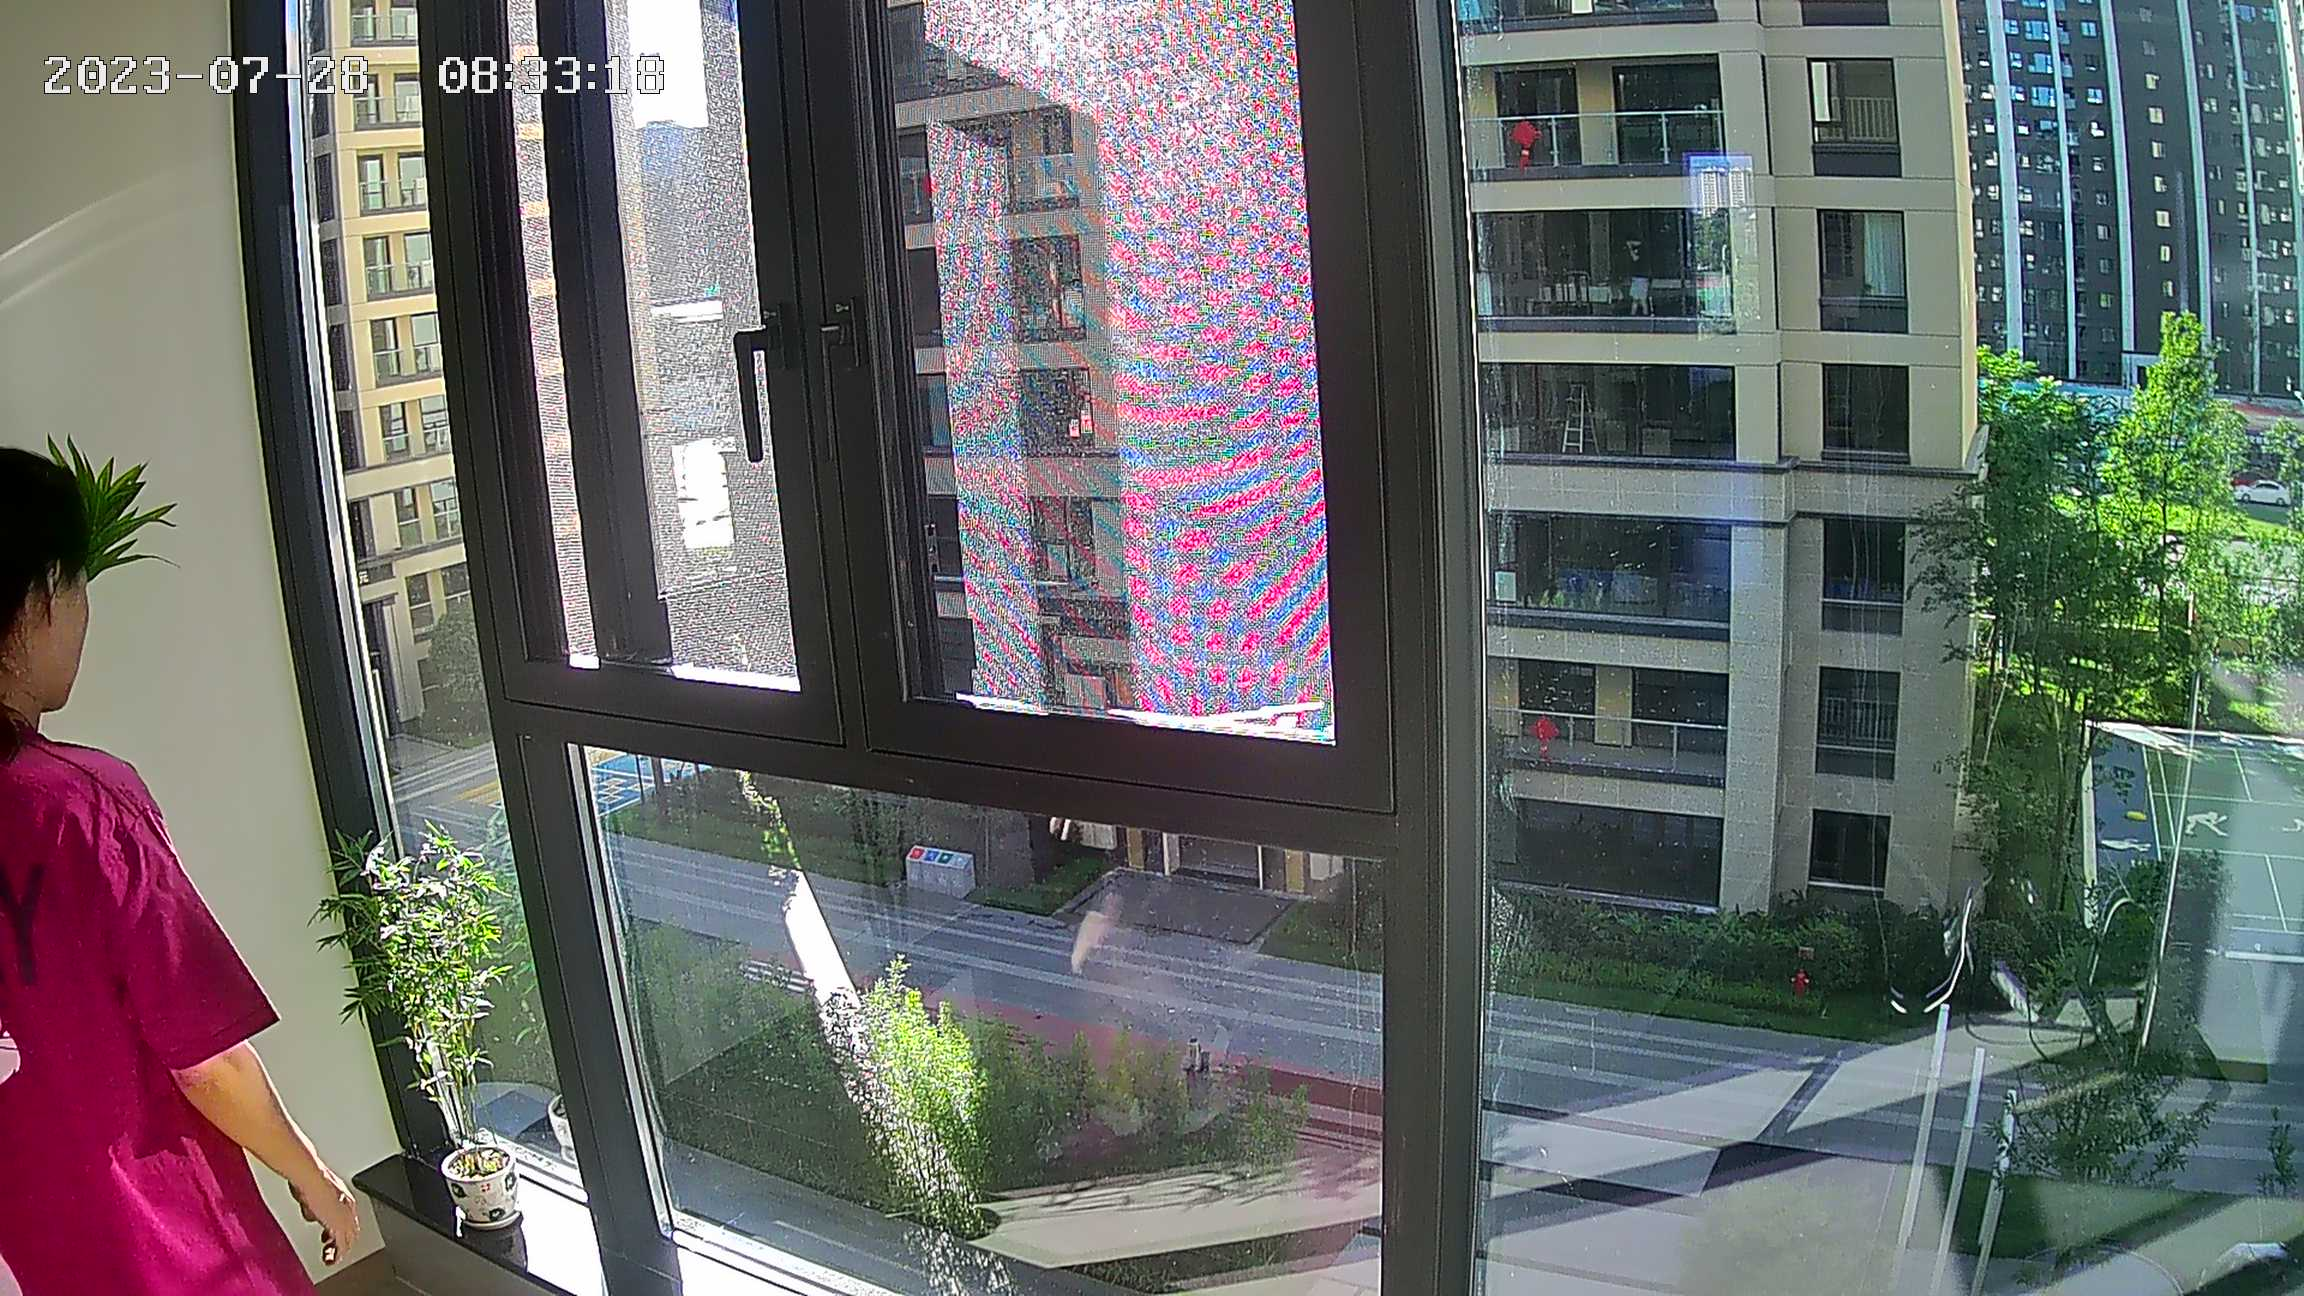people: (1, 447, 349, 1289)
window: (283, 5, 2304, 1293)
